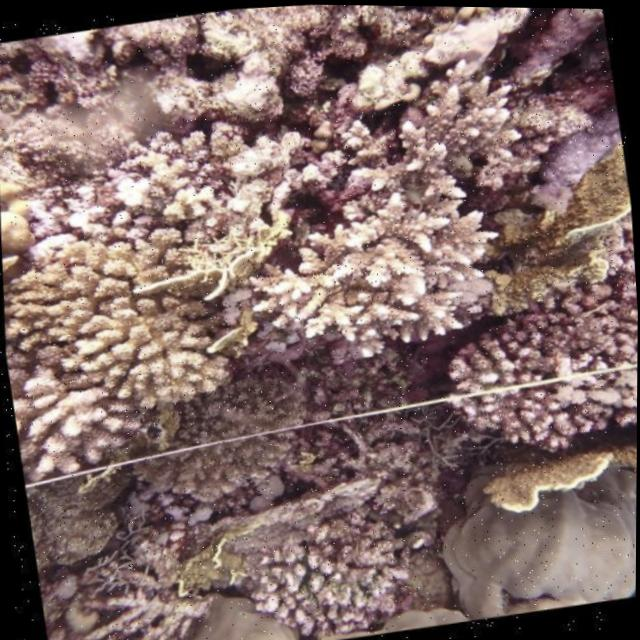Bleached Coral: (376, 175, 529, 344), (232, 512, 420, 640), (89, 458, 205, 567), (24, 159, 163, 249), (84, 555, 227, 640), (540, 338, 638, 448), (414, 5, 517, 77), (239, 450, 304, 526)
Healthy Coral: (3, 263, 259, 458)
